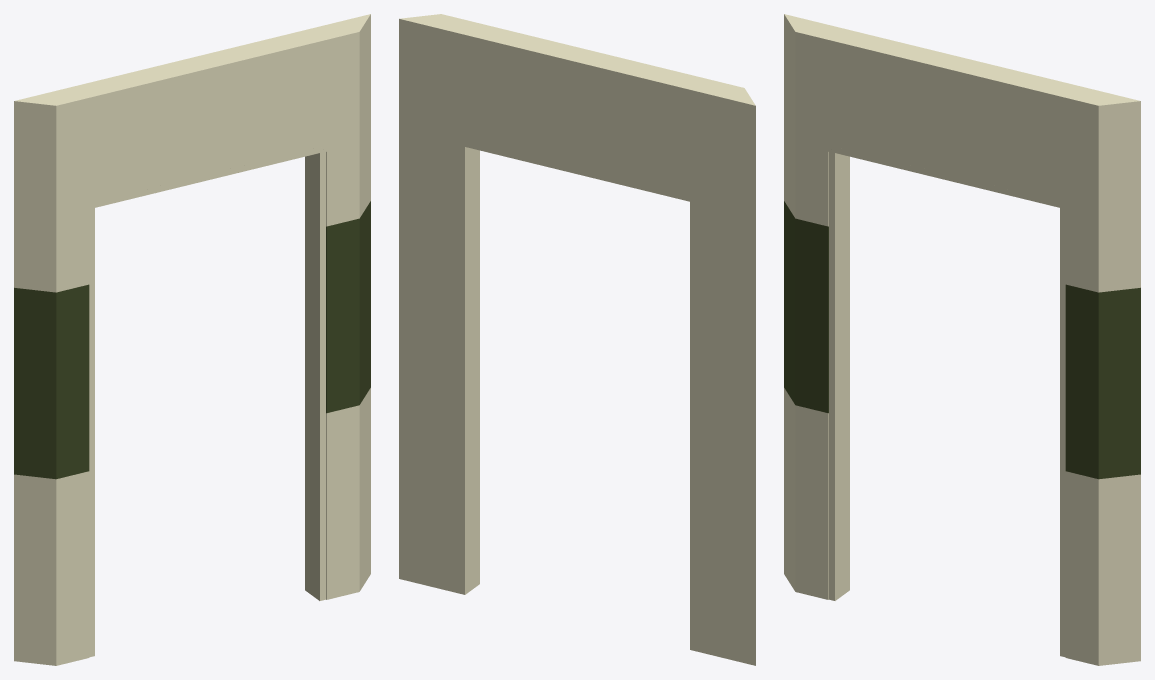
Rendered from InteriorWall_Door_B45_ExportPrep.gltf.
3 renders of one model, left to right at view 1: azimuth 30°, elevation 25°; view 2: azimuth 150°, elevation 25°; view 3: azimuth 330°, elevation 25°, orthographic.
Visible parts, largest first — view 1: InteriorWall_Door_B45; view 2: InteriorWall_Door_B45; view 3: InteriorWall_Door_B45.
Boxes of the visible parts, x1,y1,x2,y2 form: InteriorWall_Door_B45: (14,14,370,665); InteriorWall_Door_B45: (399,14,755,665); InteriorWall_Door_B45: (784,14,1140,665).
Bounding box in the file's own units: 2 × 3 × 0.15.
